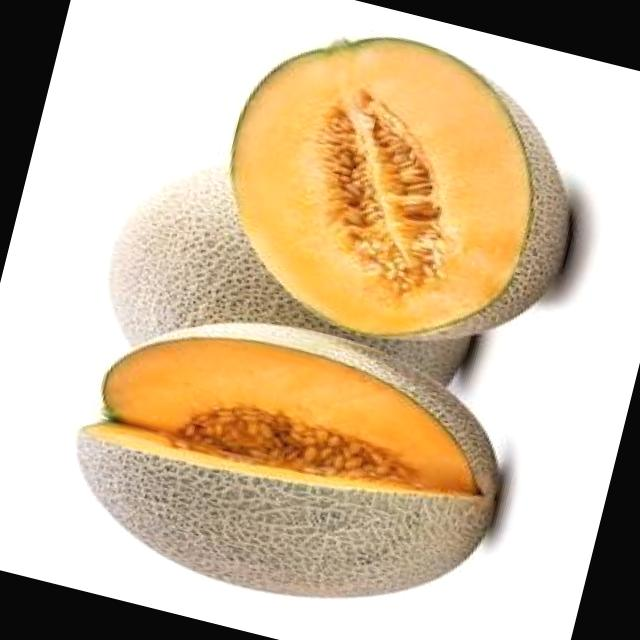cantaloupe: (46, 280, 528, 640), (194, 2, 608, 374)
